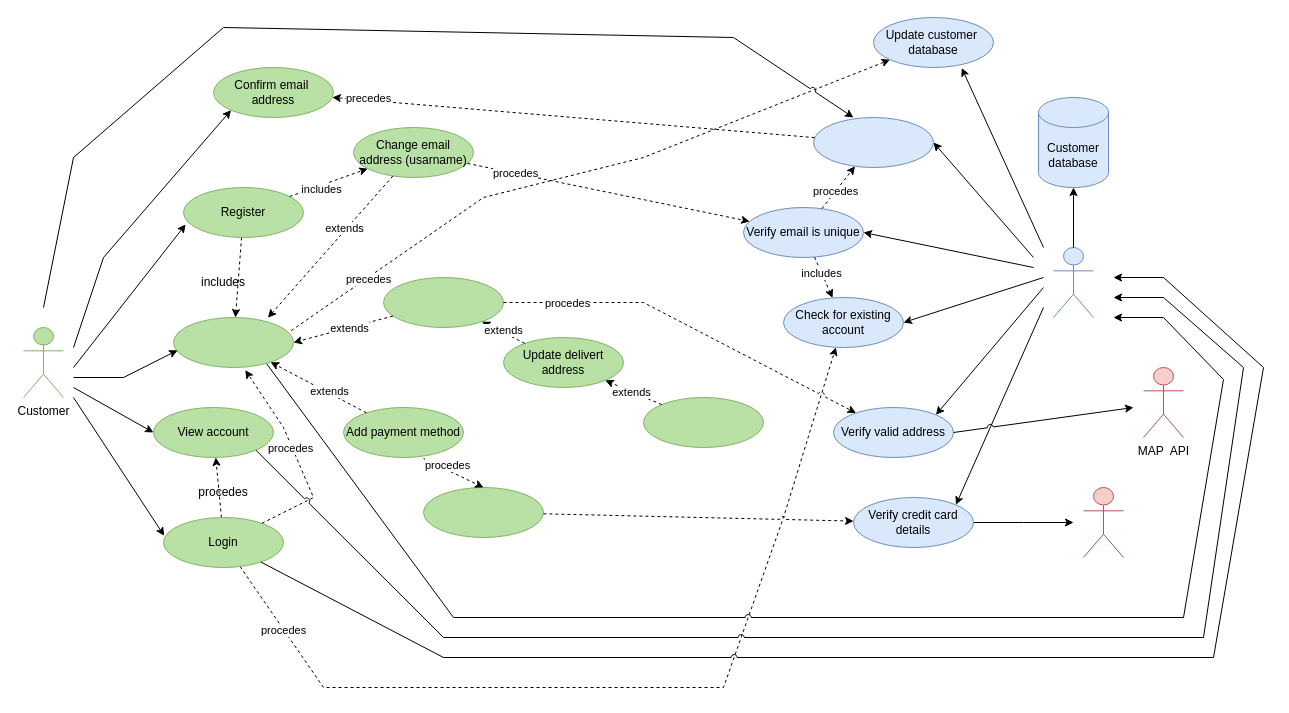
Image size: 1289x713. Some labels were removed from this diagram. The shapes that lost their labels are listed below. From the top down, each one's box as (x1, y1, x2, y2) in pixels, then its label:
(812, 116, 934, 168): Send confirmaiton link via email
(382, 276, 504, 328): Add delivery address
(1052, 246, 1094, 318): System
(172, 316, 294, 368): update account details
(642, 396, 764, 448): Delete delivery address
(422, 486, 544, 538): Enter psyment details
(1082, 486, 1124, 558): Third-party payment verification service
